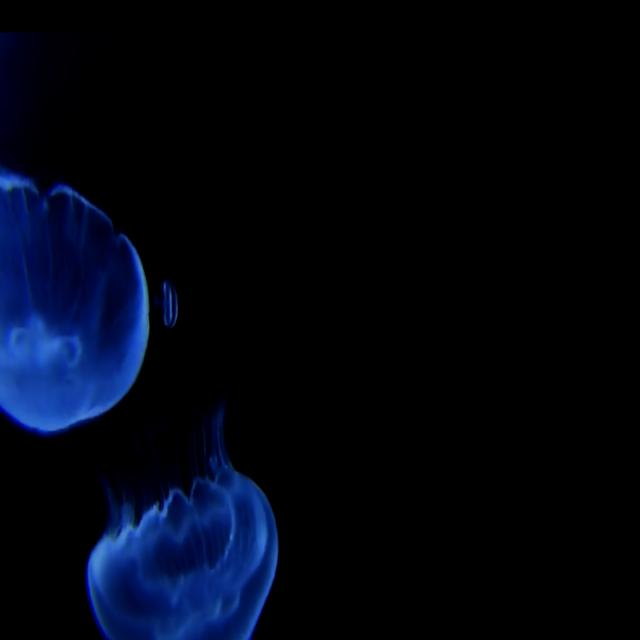Moon-jellyfish: (85, 408, 284, 640), (0, 164, 153, 440), (142, 273, 183, 346)
